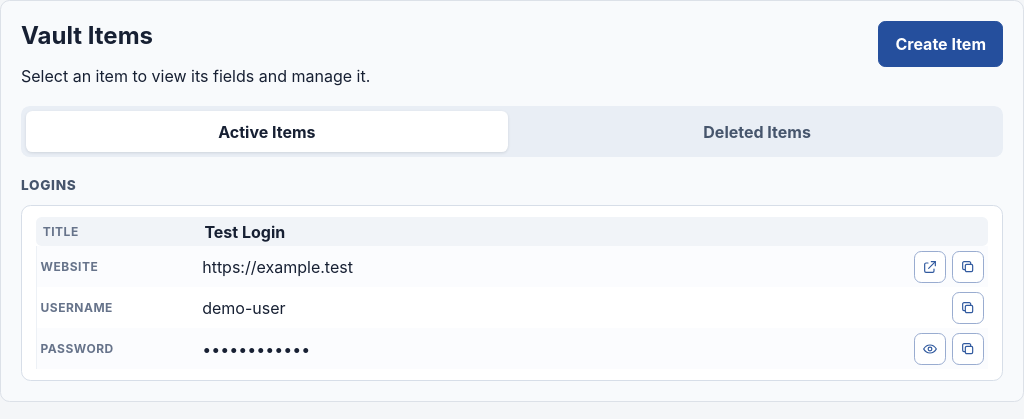
ItemWorkspace › keeps loaded item tabs available when switching between states
expect the link with aria-label "Open Test Login" is shown: met, box [22,206,1002,380]
Click the button "Deleted Items".
click(757, 132)  # box [516,111,998,152]
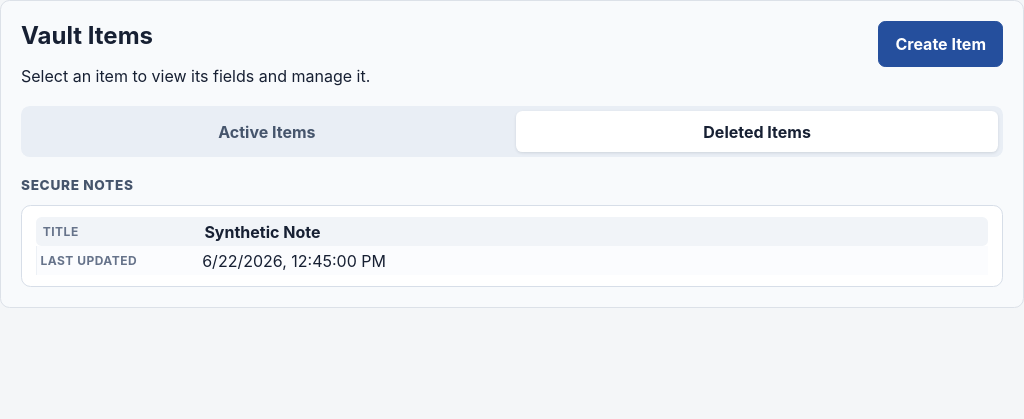
expect the link with aria-label "Open Synthetic Note" is shown: met, box [22,206,1002,286]
Click the button "Active Items".
click(267, 132)  # box [26,111,508,152]
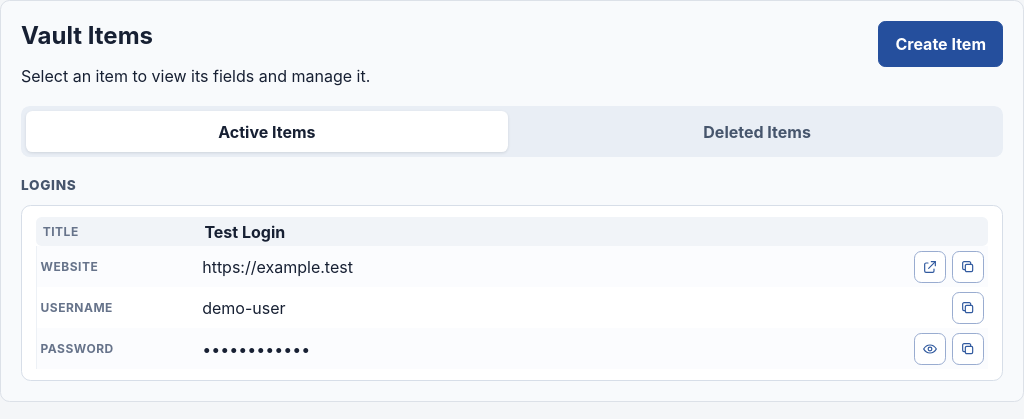
expect the link with aria-label "Open Test Login" is shown: met, box [22,206,1002,380]
